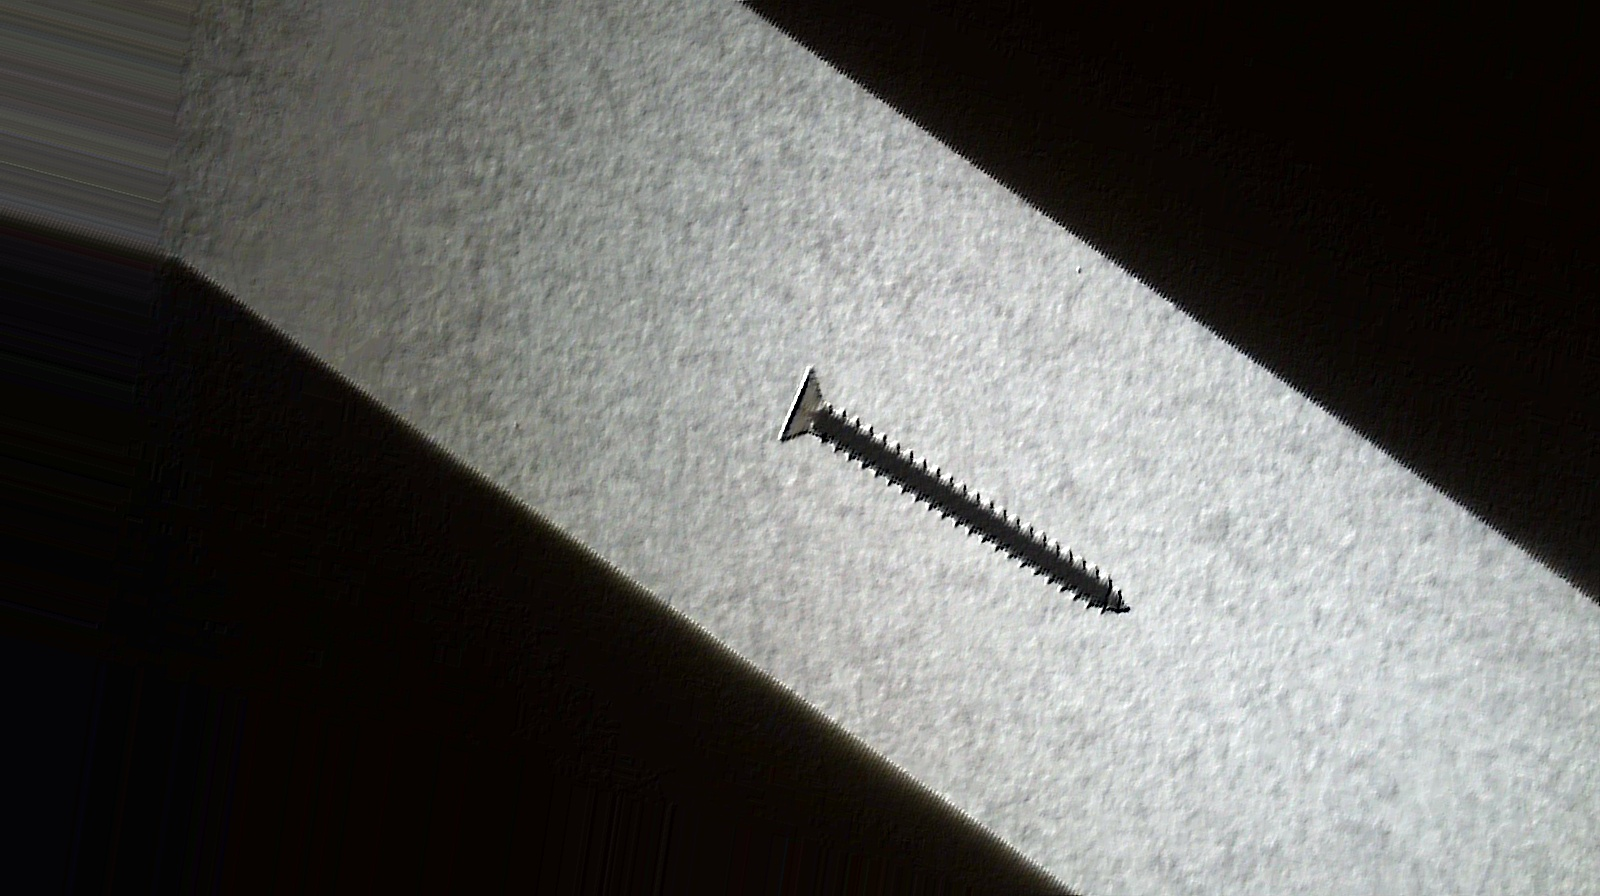S002: (758, 349, 1165, 640)
